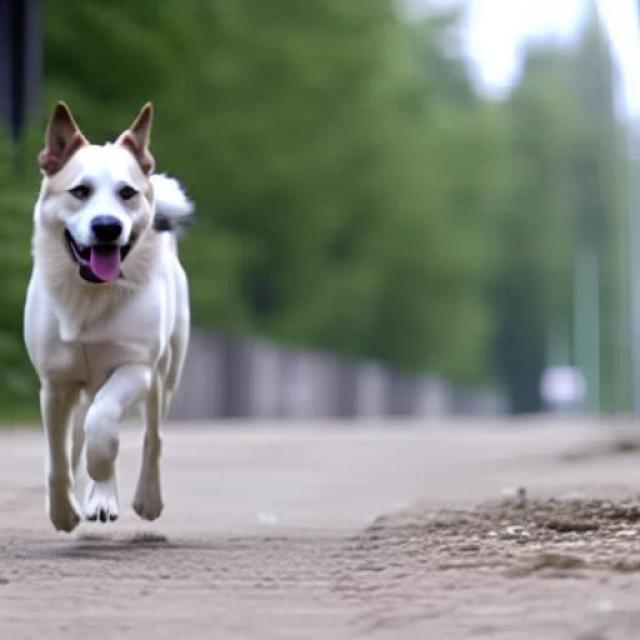Dog: (23, 102, 195, 534)
